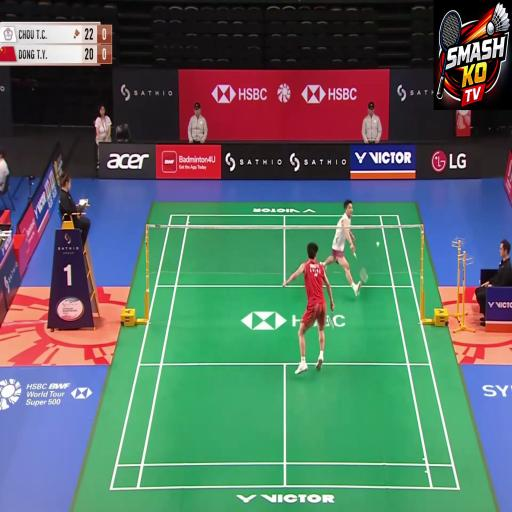player: (285, 230, 339, 400), (331, 194, 368, 312)
